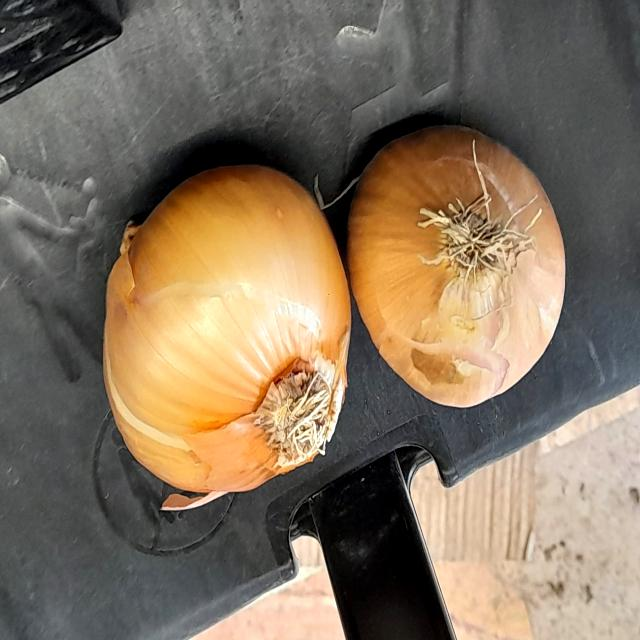onion: (91, 136, 349, 513), (344, 98, 574, 423)
